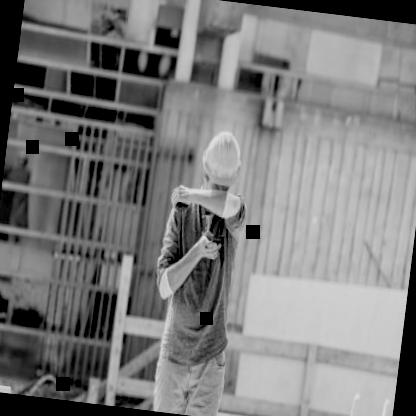helmet: (190, 124, 253, 212)
